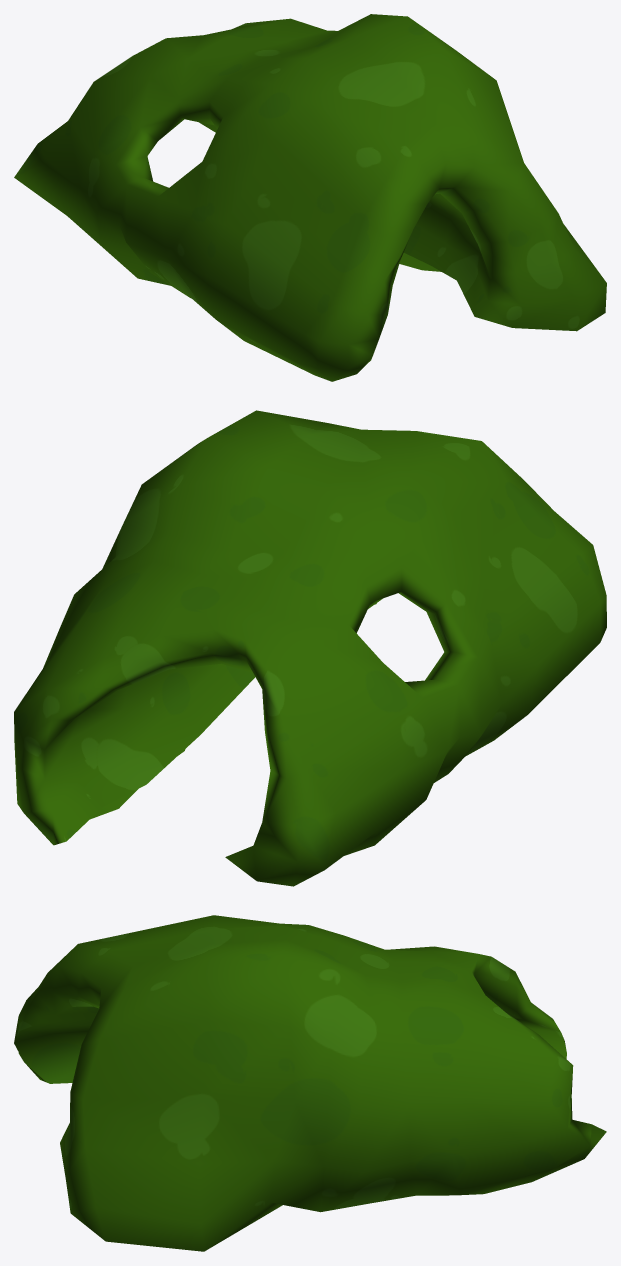
Rendered from tunel.fbx.
The picture shows the model from 3 angles, top to bottom: view 1: azimuth 30°, elevation 25°; view 2: azimuth 150°, elevation 25°; view 3: azimuth 270°, elevation 25°; orthographic projection. The views are drawn at different scales.
Parts seen in each view (by area): view 1: pPipe1; view 2: pPipe1; view 3: pPipe1.
Part boxes in pixels (x1,y1,x2,y2): pPipe1: (14,14,606,381); pPipe1: (14,410,606,886); pPipe1: (14,915,606,1251).
Bounding box in the file's own units: 190 × 126 × 275.
